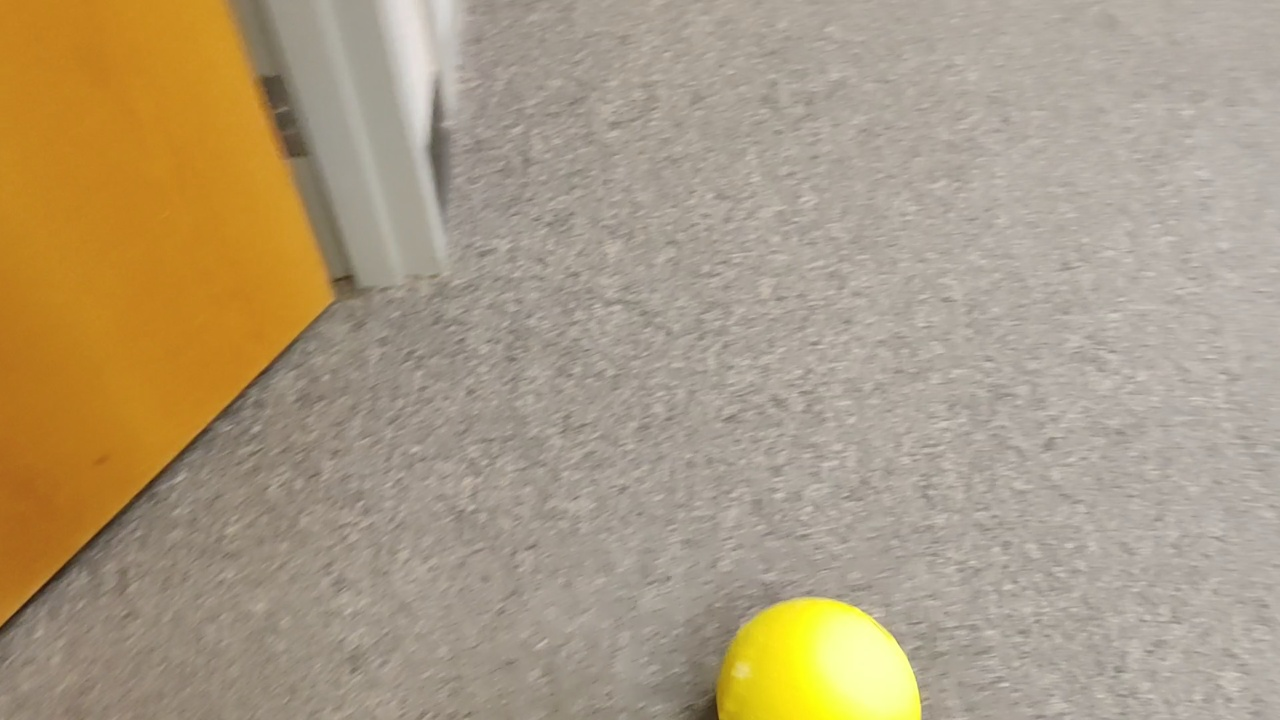Ball: (723, 597, 917, 720)
